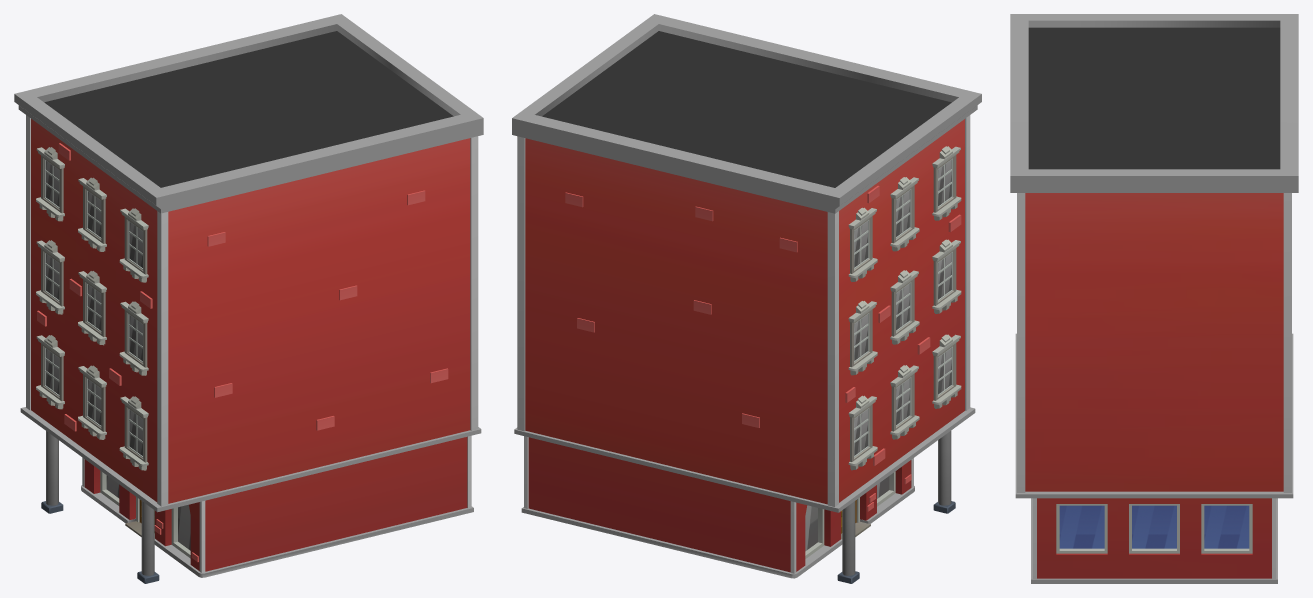
File: Building_4_D.fbx
The picture shows the model from 3 angles, left to right: view 1: azimuth 30°, elevation 25°; view 2: azimuth 150°, elevation 25°; view 3: azimuth 270°, elevation 25°; orthographic projection.
Parts seen in each view (by area): view 1: Building_4_D; view 2: Building_4_D; view 3: Building_4_D.
Part boxes in pixels (x1,y1,x2,y2): Building_4_D: (14, 14, 483, 583); Building_4_D: (512, 14, 981, 583); Building_4_D: (1010, 14, 1298, 583).
Size of the model in its own units: 1585 by 1855 by 1191.
